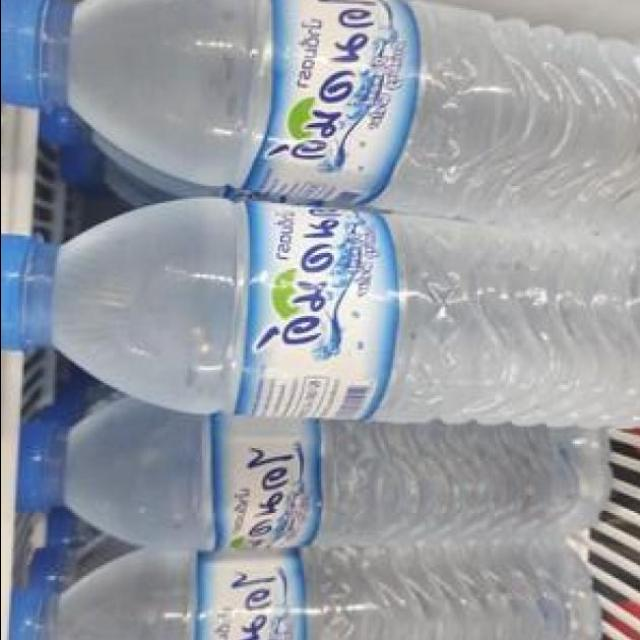plastik: (0, 0, 640, 242), (0, 199, 640, 425), (16, 398, 607, 549), (10, 545, 597, 640)
